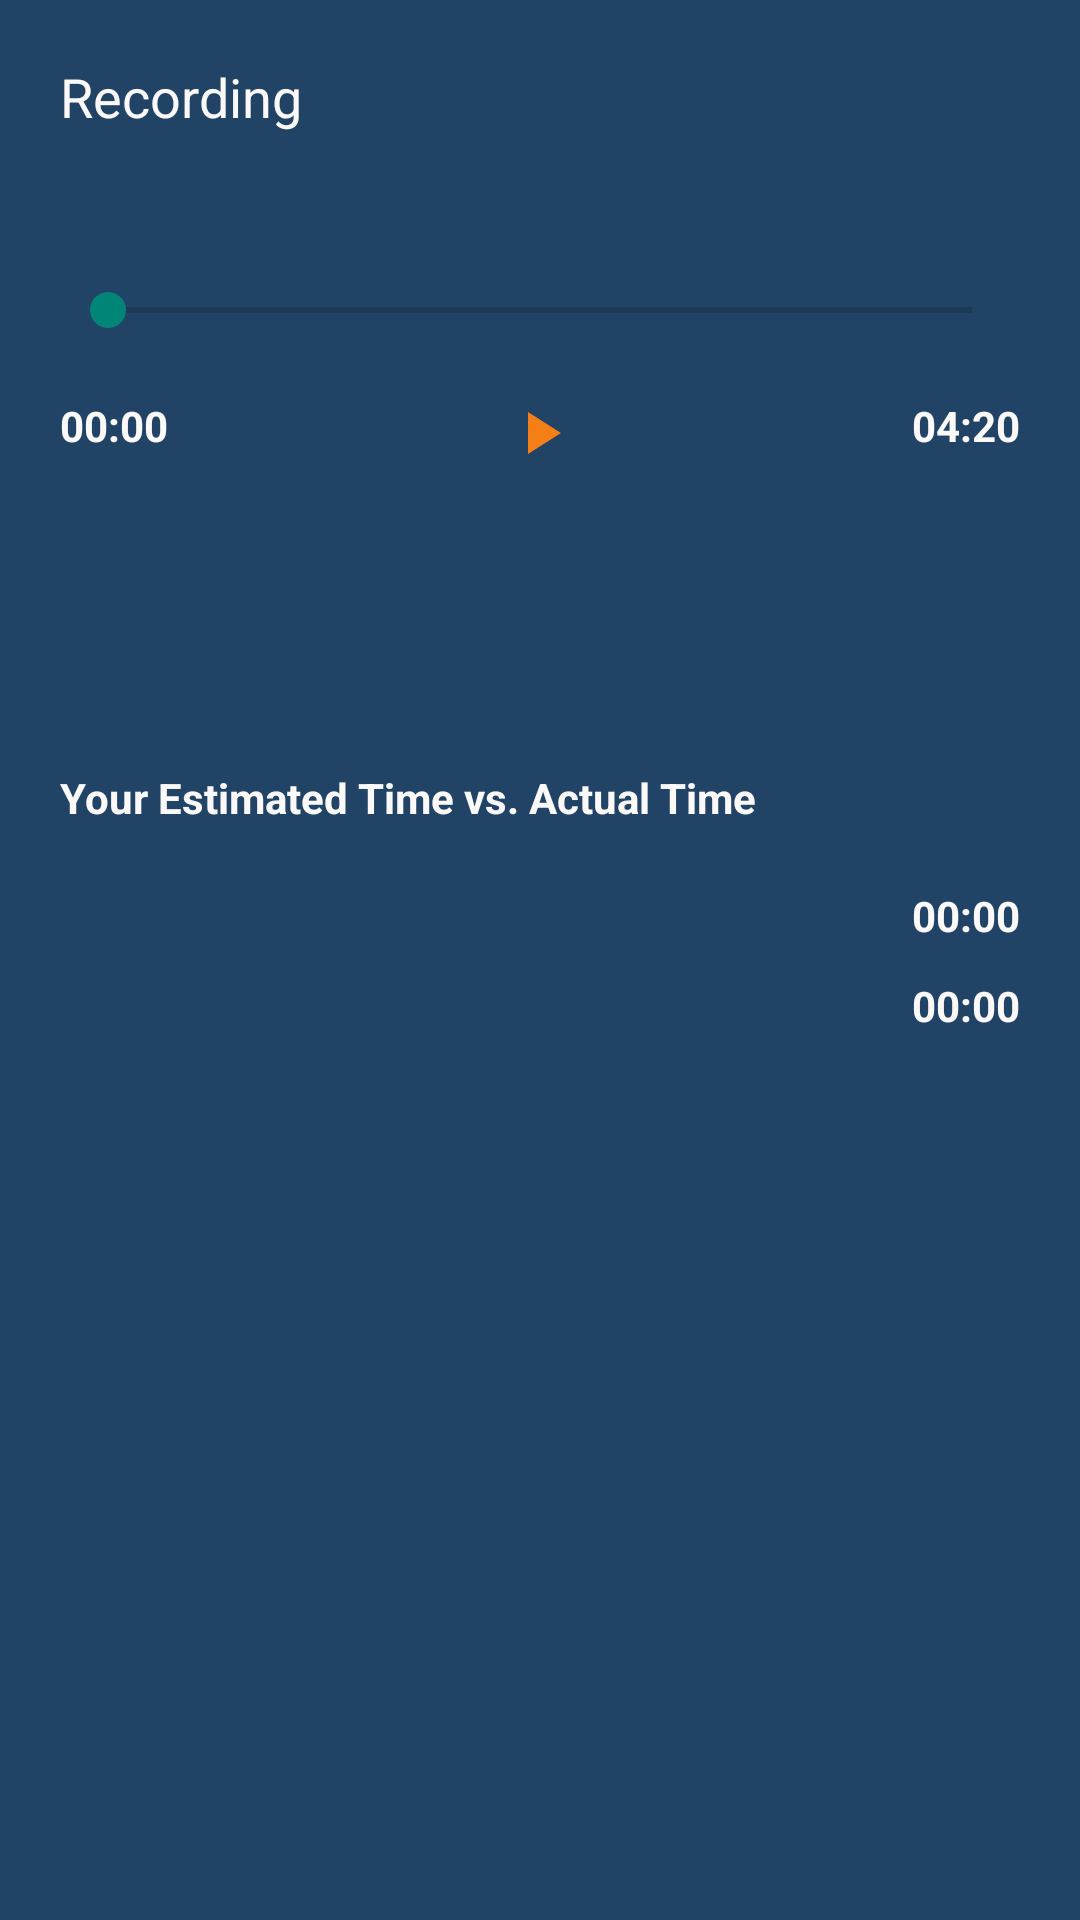

Where icons sit on this 1080px×1920px app screen, as (x1,y1,x2,y2):
play: (528,412,561,454)
